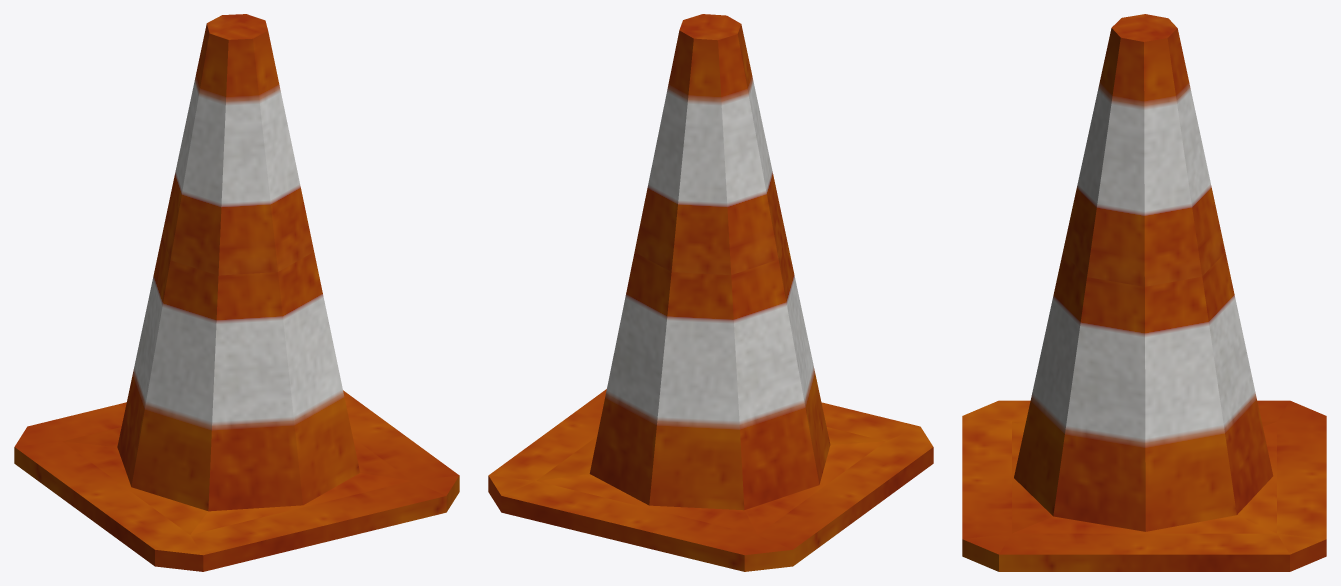
The model's file is Urban_TrafficConeRound_Model.fbx.
3 views of the same model, side by side, from view 1: azimuth 30°, elevation 25°; view 2: azimuth 150°, elevation 25°; view 3: azimuth 270°, elevation 25° (orthographic). The views are drawn at different scales.
Visible parts, largest first — view 1: Urban_TrafficConeRound_Mesh; view 2: Urban_TrafficConeRound_Mesh; view 3: Urban_TrafficConeRound_Mesh.
Boxes of the visible parts, left/top/right/bottom form: Urban_TrafficConeRound_Mesh: left=14, top=14, right=459, bottom=571; Urban_TrafficConeRound_Mesh: left=488, top=14, right=933, bottom=571; Urban_TrafficConeRound_Mesh: left=962, top=14, right=1326, bottom=571.
Size of the model in its own units: 0.4 by 0.5656 by 0.4.
